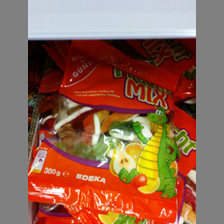candy: (36, 42, 175, 214)
